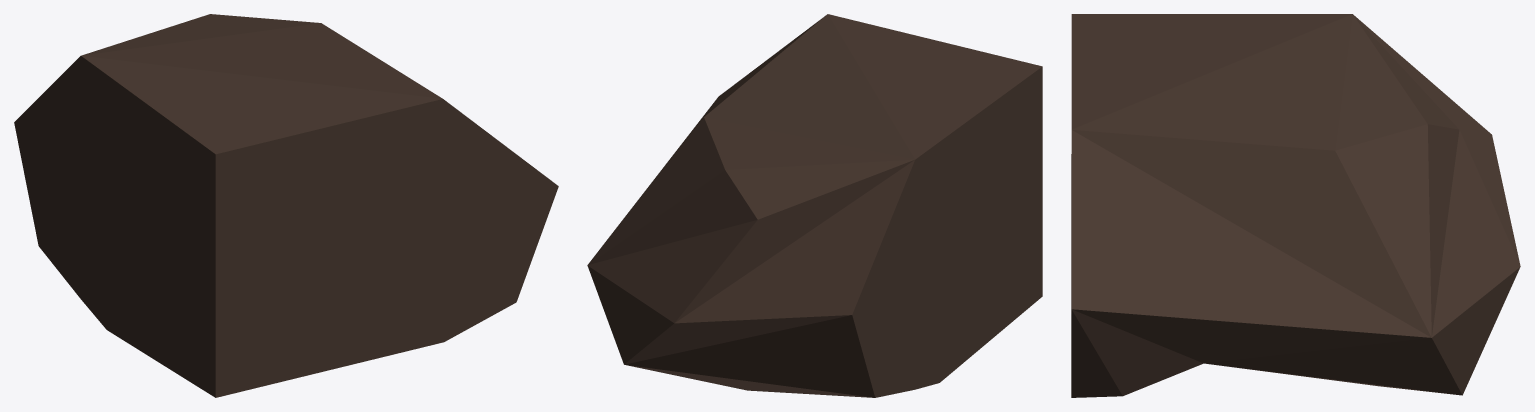
Rendered from DarkRockEdgeSmallExternalCurve2.fbx.
3 views of the same model, side by side, from view 1: azimuth 30°, elevation 25°; view 2: azimuth 150°, elevation 25°; view 3: azimuth 270°, elevation 25° (orthographic). The views are drawn at different scales.
Parts seen in each view (by area): view 1: DarkRockEdgeSmallExternalCurve2; view 2: DarkRockEdgeSmallExternalCurve2; view 3: DarkRockEdgeSmallExternalCurve2.
Boxes of the visible parts, <box> form: DarkRockEdgeSmallExternalCurve2: <box>14,14,558,397</box>; DarkRockEdgeSmallExternalCurve2: <box>587,14,1042,397</box>; DarkRockEdgeSmallExternalCurve2: <box>1071,14,1520,397</box>.
Size of the model in its own units: 295 by 227 by 321.
